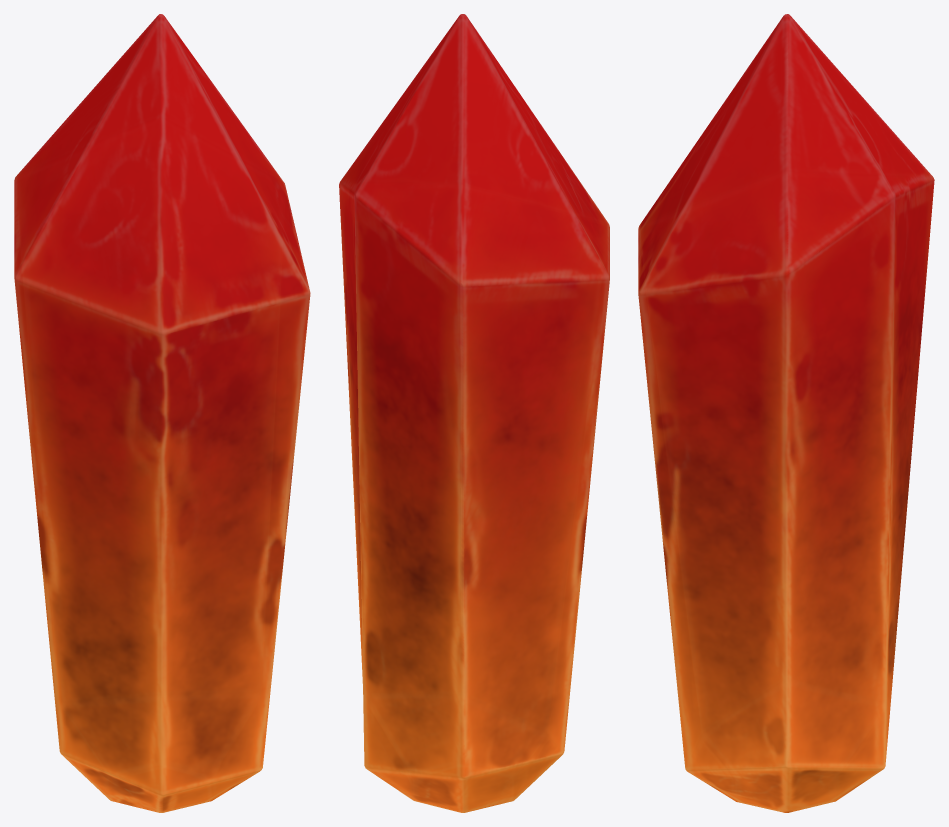
The model's file is lilred.gltf.
The picture shows the model from 3 angles, left to right: view 1: azimuth 30°, elevation 25°; view 2: azimuth 150°, elevation 25°; view 3: azimuth 270°, elevation 25°; orthographic projection.
Parts seen in each view (by area): view 1: CrystalShard_low3_lambert2_0; view 2: CrystalShard_low3_lambert2_0; view 3: CrystalShard_low3_lambert2_0.
Part boxes in pixels (x1=…): CrystalShard_low3_lambert2_0: x1=14, y1=14, x2=310, y2=812; CrystalShard_low3_lambert2_0: x1=339, y1=14, x2=609, y2=812; CrystalShard_low3_lambert2_0: x1=638, y1=14, x2=934, y2=812.
Size of the model in its own units: 0.2452 by 0.6727 by 0.233.
1 material, 1 textured.
